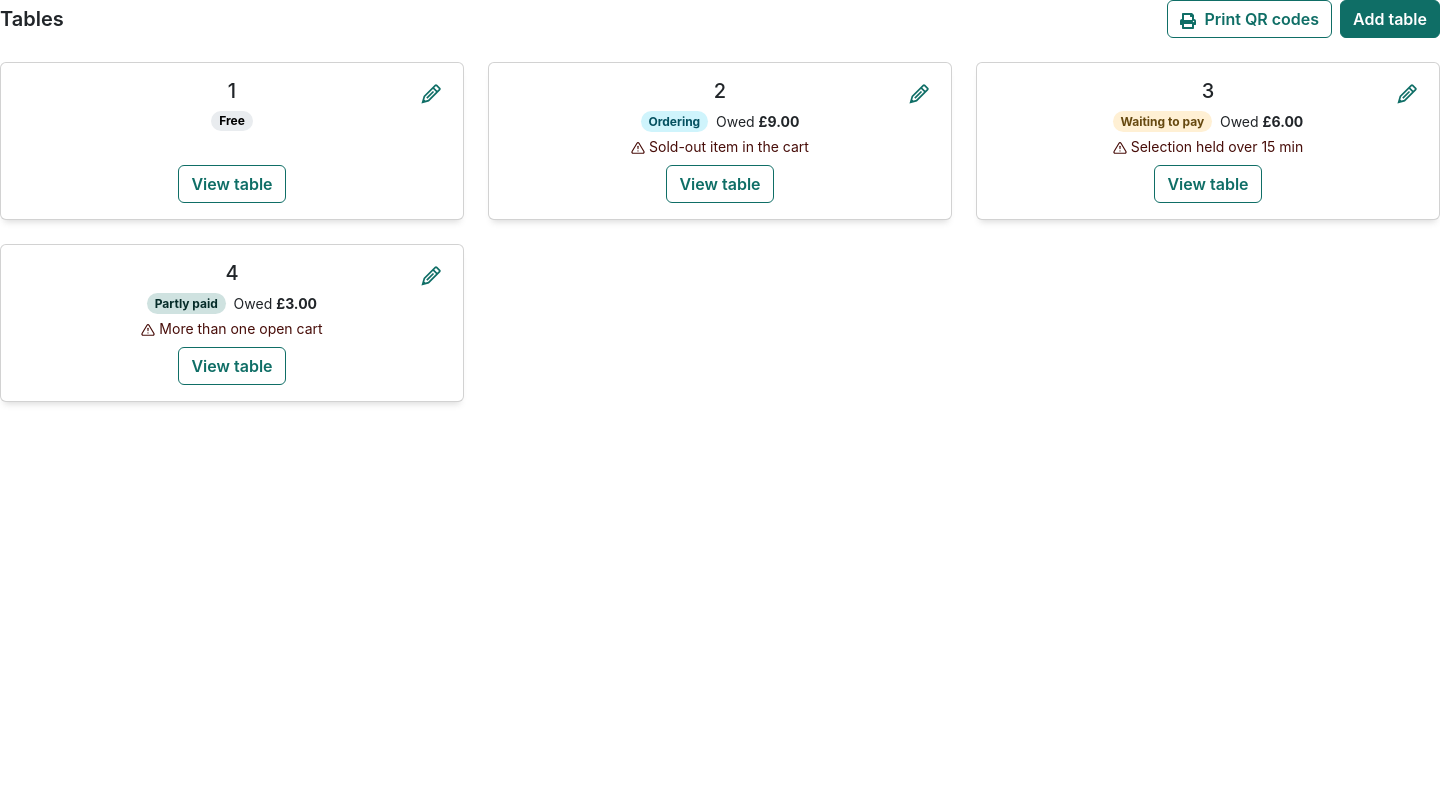
Test case: table sheet › says so when the table has no open cart
Click the button with aria-label "View table 1".
click(232, 184)  # box [178,165,286,203]
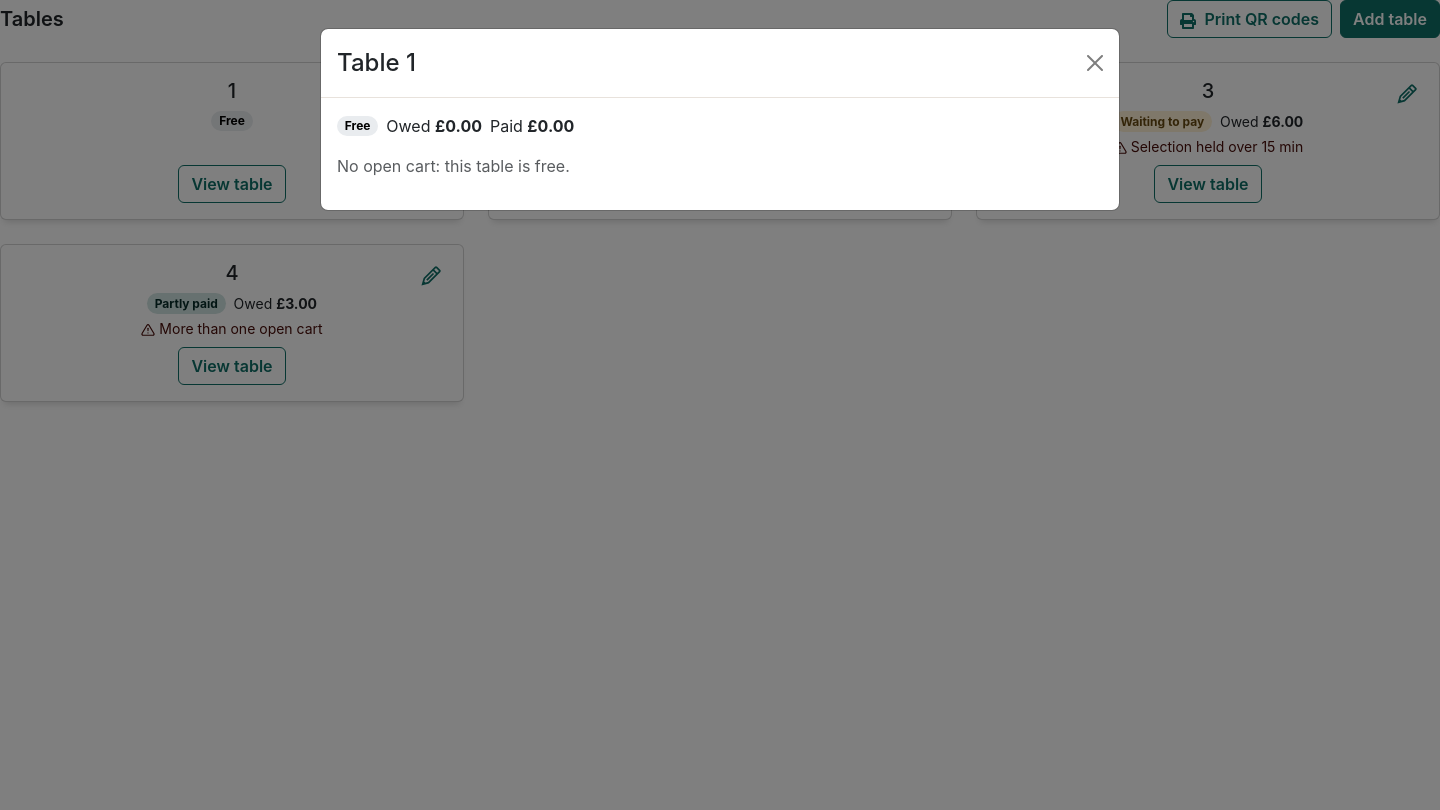
Check: the text "No open cart: this table is free." is shown, box [337,156,570,176]
